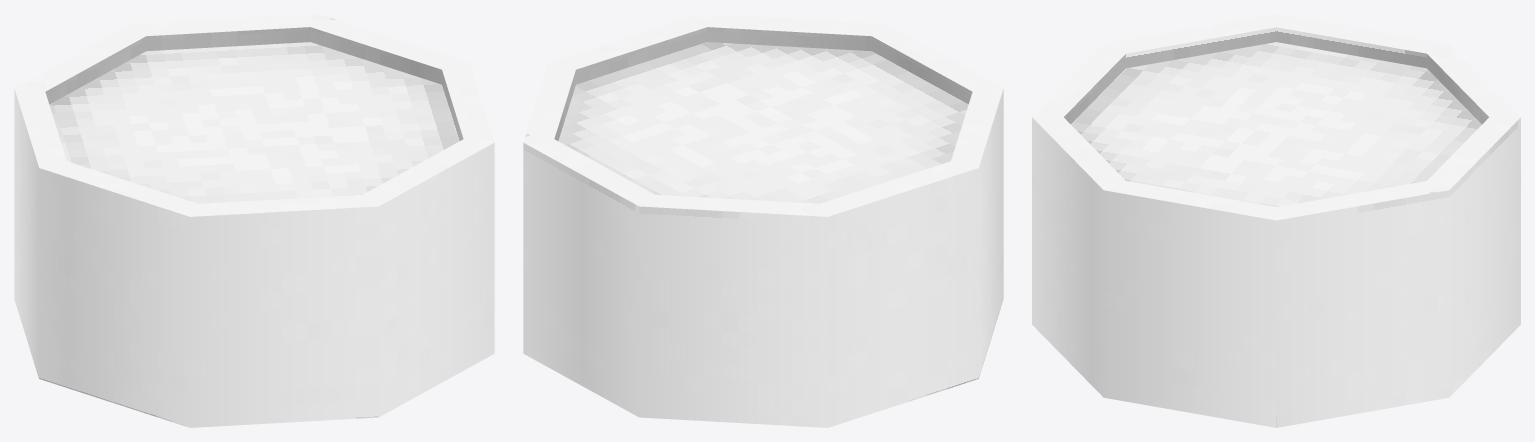
Rendered from CanSmall.glb.
3 views of the same model, side by side, from view 1: azimuth 30°, elevation 25°; view 2: azimuth 150°, elevation 25°; view 3: azimuth 270°, elevation 25° (orthographic).
Parts seen in each view (by area): view 1: CanSmall, CanSmall.001; view 2: CanSmall, CanSmall.001; view 3: CanSmall, CanSmall.001.
Part boxes in pixels (x1,y1,x2,y2): CanSmall: (14, 14, 494, 427); CanSmall.001: (49, 42, 459, 203); CanSmall: (523, 14, 1003, 427); CanSmall.001: (558, 42, 968, 203); CanSmall: (1032, 14, 1520, 427); CanSmall.001: (1071, 42, 1481, 206).
Bounding box in the file's own units: 0.1117 × 0.0523 × 0.1117.
Materials: 1 (1 with a texture image).
